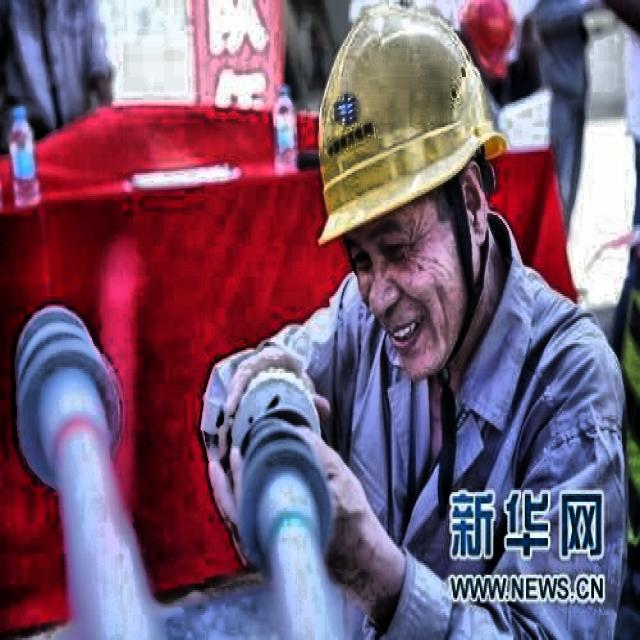helmet: (282, 0, 528, 413)
